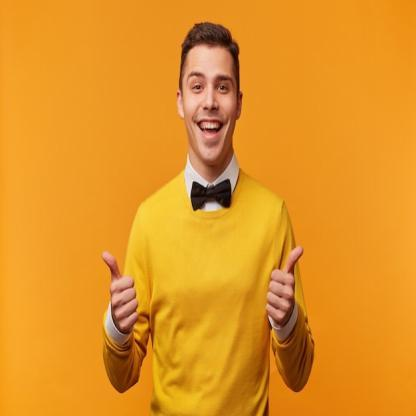thumb_up: (262, 240, 306, 329), (99, 244, 140, 334)
